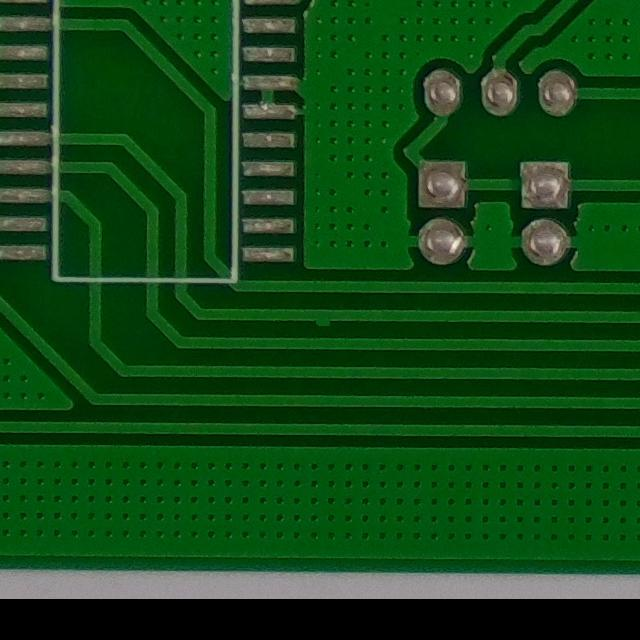spur: (303, 304, 338, 336)
